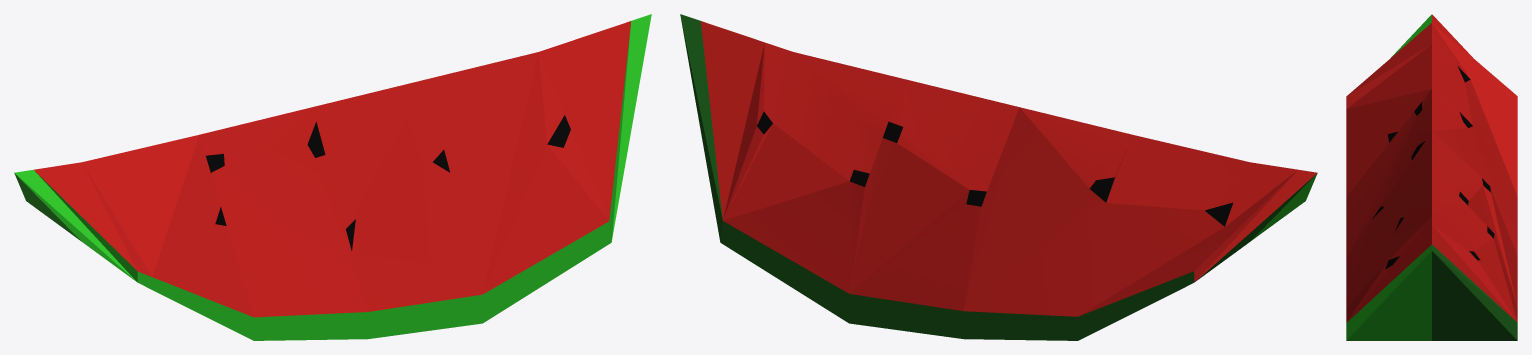
Rendered from Cut Watermelon 1.fbx.
The picture shows the model from 3 angles, left to right: view 1: azimuth 30°, elevation 25°; view 2: azimuth 150°, elevation 25°; view 3: azimuth 270°, elevation 25°; orthographic projection. The views are drawn at different scales.
Parts seen in each view (by area): view 1: Cut Watermelon, Cut Watermelon .002; view 2: Cut Watermelon, Cut Watermelon .002; view 3: Cut Watermelon, Cut Watermelon .002.
Boxes of the visible parts, left/top/right/bottom form: Cut Watermelon: left=312, top=14, right=651, bottom=338; Cut Watermelon .002: left=14, top=107, right=368, bottom=340; Cut Watermelon: left=680, top=14, right=1019, bottom=338; Cut Watermelon .002: left=963, top=107, right=1317, bottom=340; Cut Watermelon: left=1346, top=132, right=1517, bottom=340; Cut Watermelon .002: left=1346, top=14, right=1517, bottom=256.
Bounding box in the file's own units: 608 × 195 × 184.
